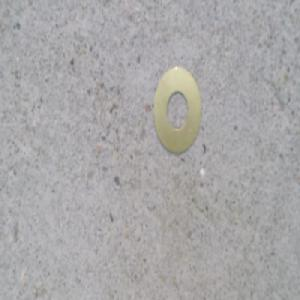Washer: (152, 63, 202, 153)
